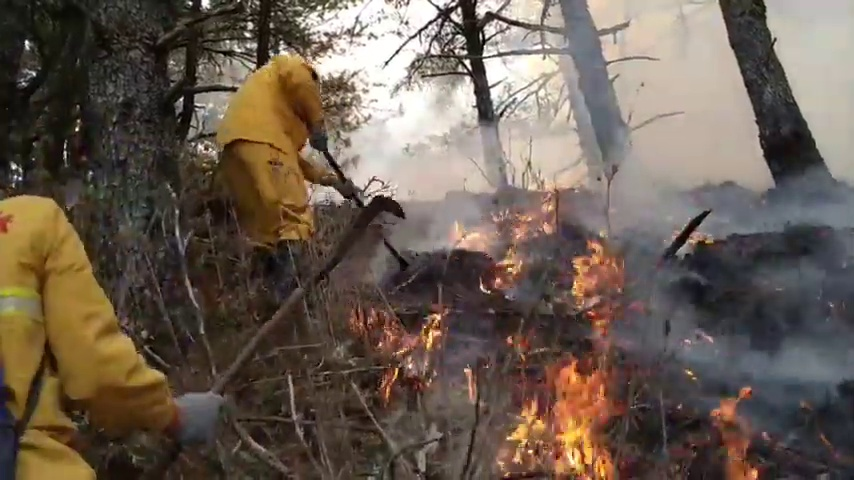fire: (553, 368, 605, 472), (718, 402, 758, 480), (571, 242, 614, 313), (508, 394, 544, 460), (494, 246, 524, 285), (418, 314, 441, 347)
